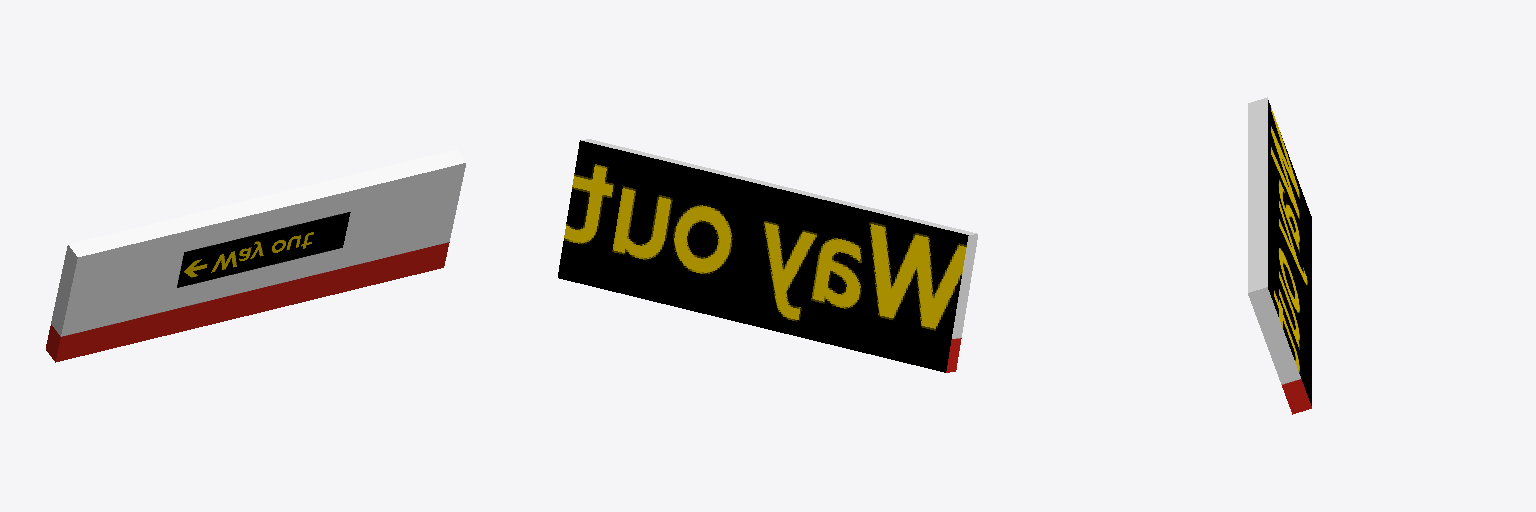
3 views of the same model, side by side, from view 1: azimuth 30°, elevation 25°; view 2: azimuth 150°, elevation 25°; view 3: azimuth 270°, elevation 25° (orthographic).
Visible parts, largest first — view 1: cube.001_cube.004; view 2: cube.001_cube.004; view 3: cube.001_cube.004.
Boxes of the visible parts, x1=… form: cube.001_cube.004: x1=46, y1=149, x2=465, y2=362; cube.001_cube.004: x1=558, y1=139, x2=977, y2=372; cube.001_cube.004: x1=1248, y1=97, x2=1311, y2=414.
Size of the model in its own units: 1.5 by 0.47 by 0.2164.
Materials: 1 (1 with a texture image).